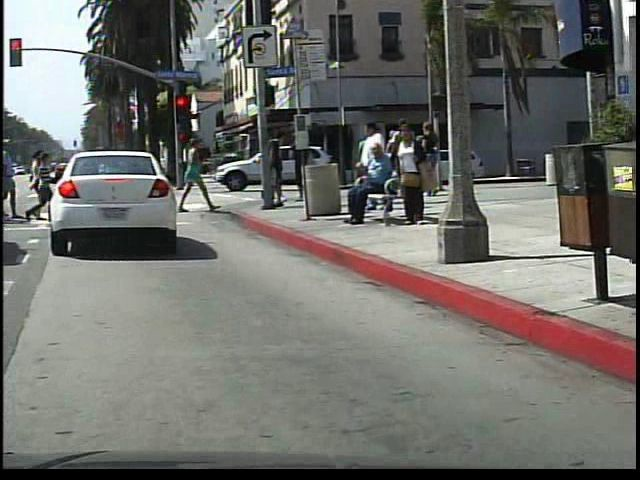person: (349, 145, 404, 225), (396, 123, 434, 228), (182, 133, 219, 223)
